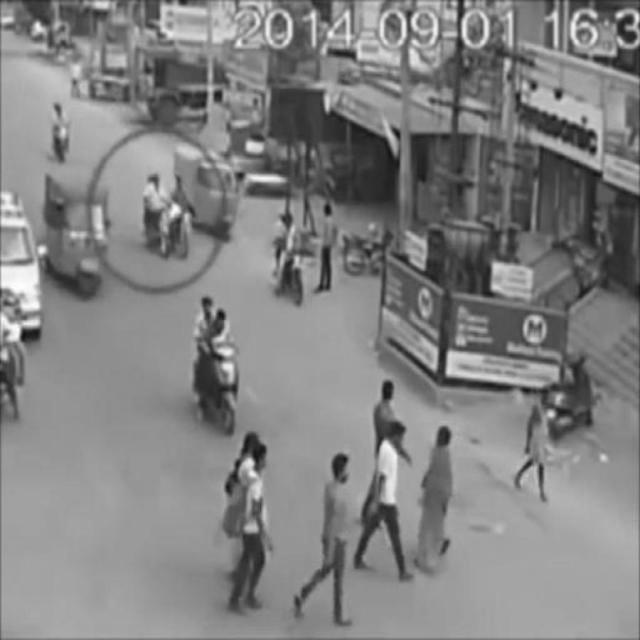accident: (137, 169, 197, 271)
person: (293, 434, 354, 624), (362, 433, 416, 584), (230, 447, 265, 611)
vehicle: (44, 168, 108, 292), (193, 299, 245, 433), (173, 144, 239, 246), (273, 214, 308, 302)
